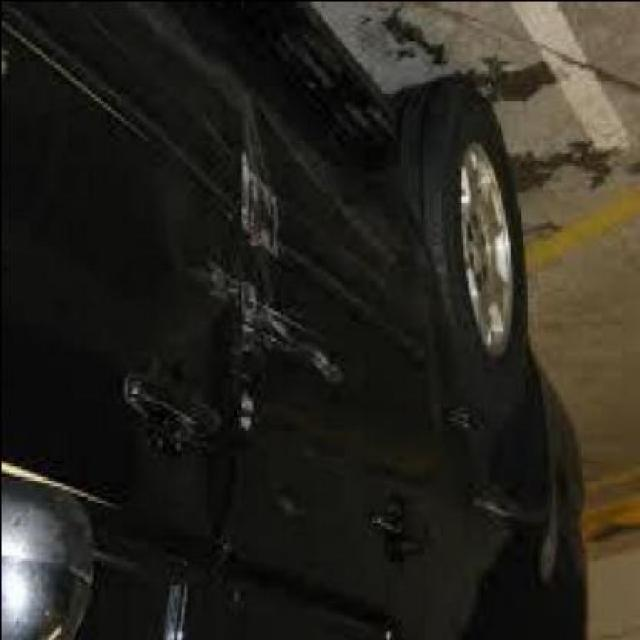damage: (199, 247, 341, 445), (230, 95, 293, 259)
